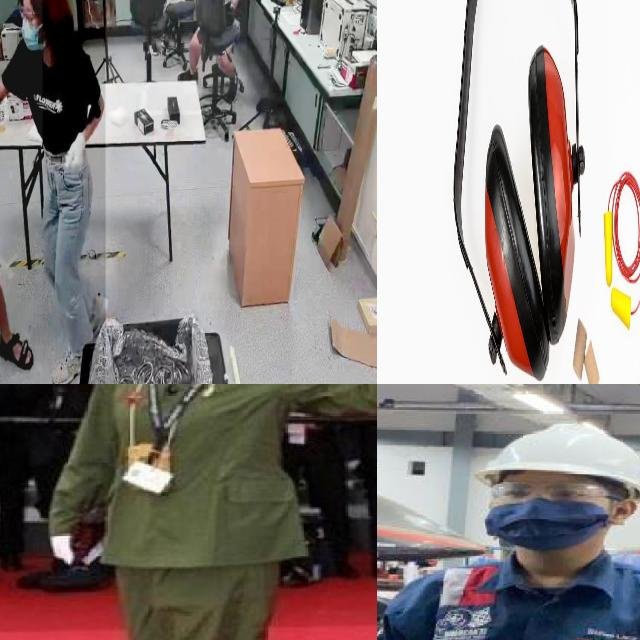Ear-protection: (483, 118, 549, 384), (525, 45, 575, 346)
No_Ear-Protection: (610, 502, 637, 526)
face_mask: (488, 498, 608, 550), (17, 14, 43, 62)
glasses: (491, 482, 621, 512)
hand_glove: (63, 132, 89, 189), (48, 530, 84, 562)
head_helmet: (476, 423, 640, 501)
person: (90, 384, 371, 640), (0, 0, 106, 384), (183, 0, 247, 95), (44, 384, 127, 419)
shoes: (51, 338, 91, 384)
